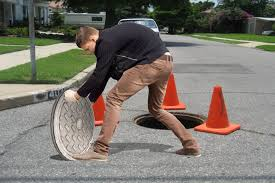Manhole-Open: (135, 104, 206, 134)
human: (67, 22, 203, 166)
